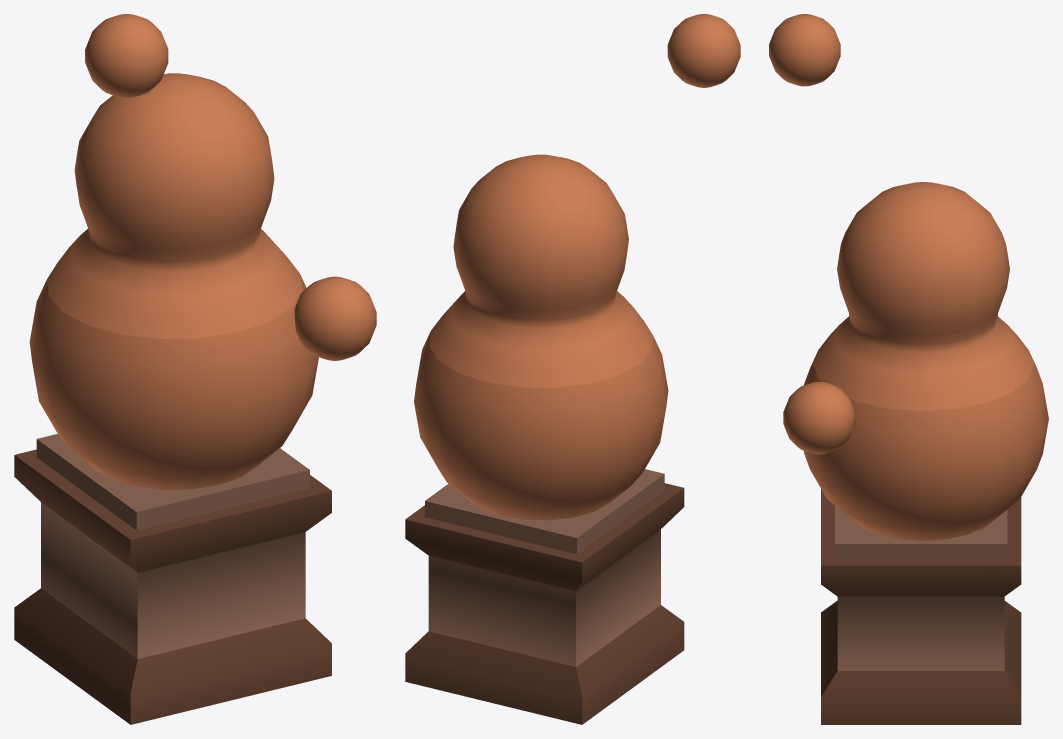
The model's file is mode_statue.FBX.
3 renders of one model, left to right at view 1: azimuth 30°, elevation 25°; view 2: azimuth 150°, elevation 25°; view 3: azimuth 270°, elevation 25°, orthographic. The views are drawn at different scales.
Parts seen in each view (by area): view 1: Sphere002; view 2: Sphere002; view 3: Sphere002.
Part boxes in pixels (box(x1,y1,x2,y2)): Sphere002: box(14, 14, 376, 724); Sphere002: box(405, 14, 740, 724); Sphere002: box(769, 14, 1048, 724).
Size of the model in its own units: 207 by 493 by 202.
Materials: 1 (1 with a texture image).
